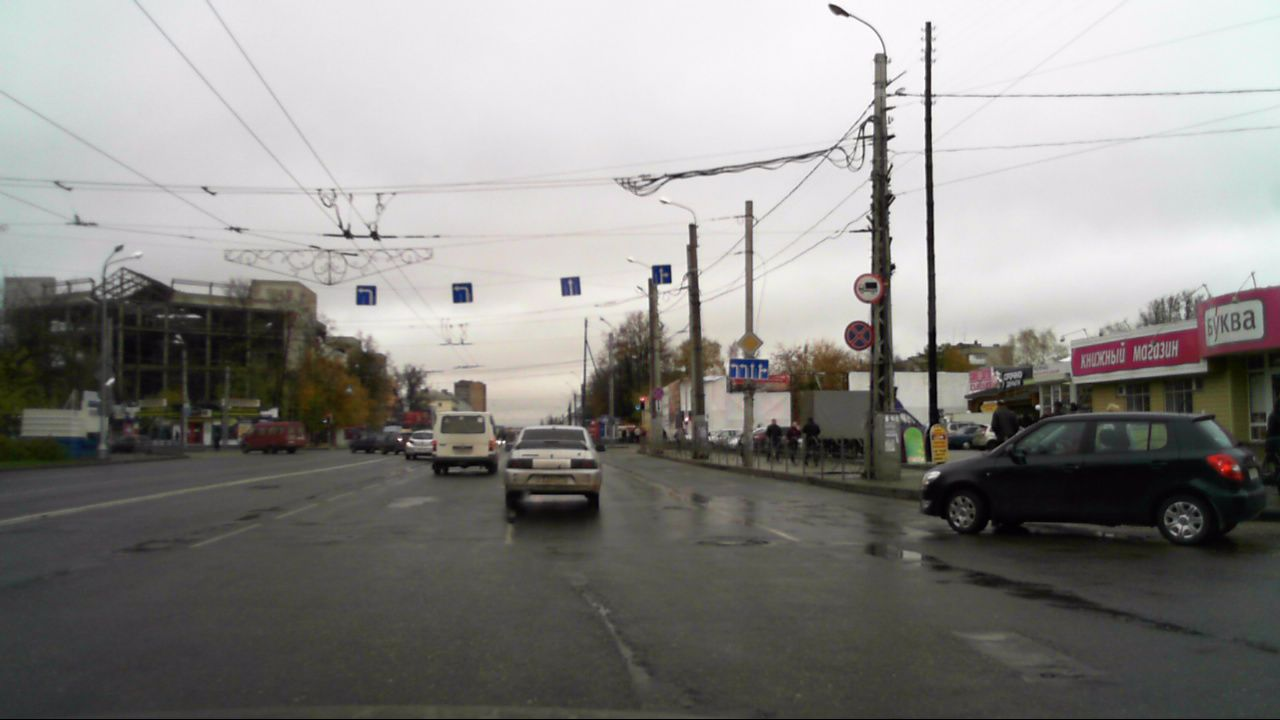No Parking: (844, 320, 873, 351)
